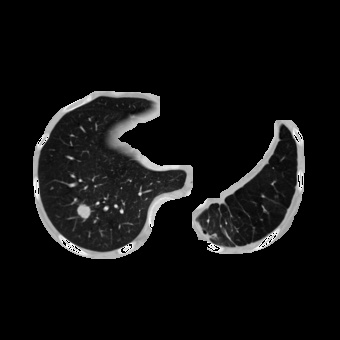PN: (77, 204, 91, 218)
